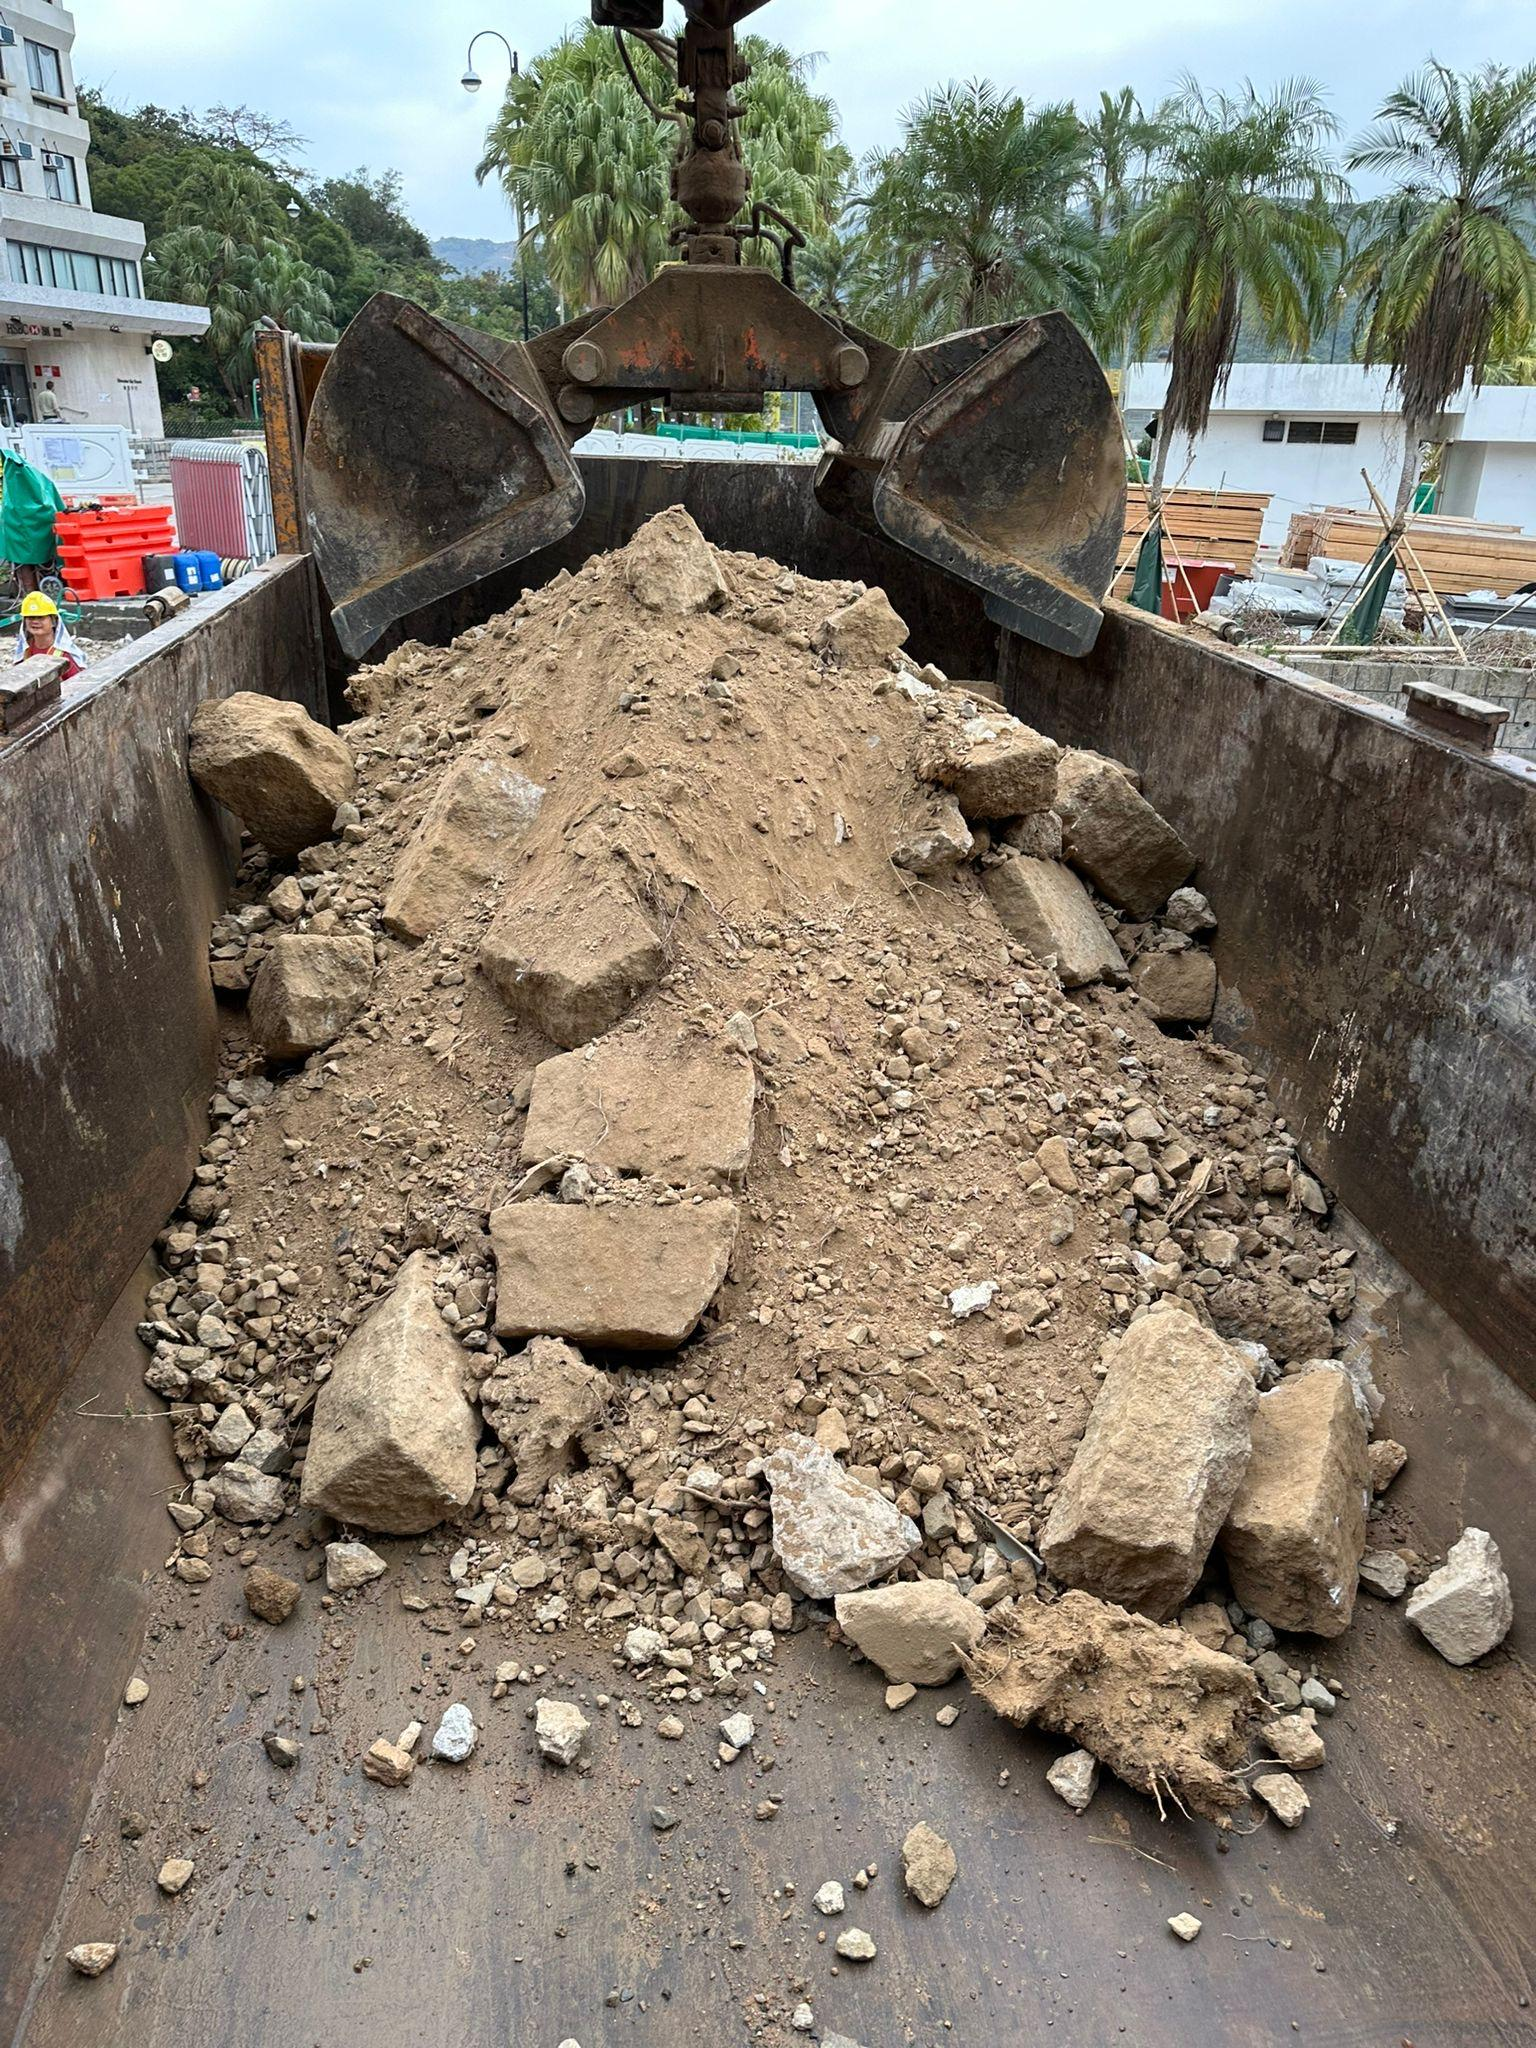dry: (387, 634, 1060, 1656)
